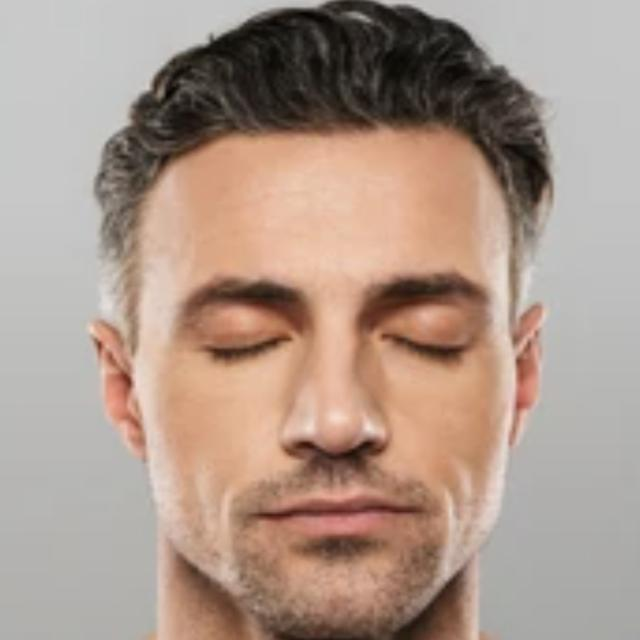close: (173, 255, 320, 394), (362, 262, 499, 391)
